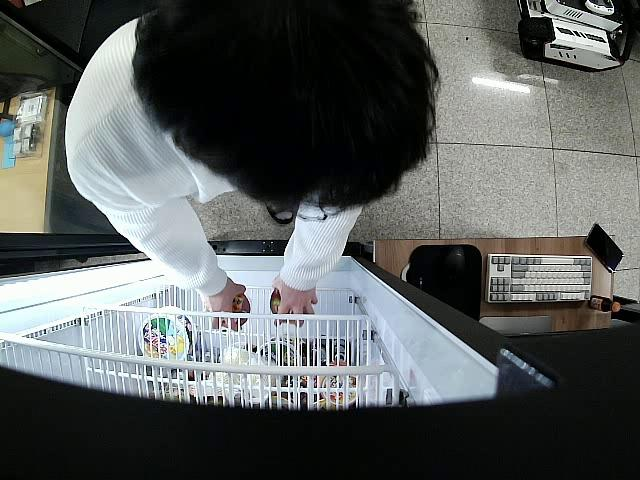00_hand: (273, 276, 318, 326), (202, 280, 246, 331)
06_nuguri_S: (219, 293, 254, 331), (270, 289, 299, 324)
